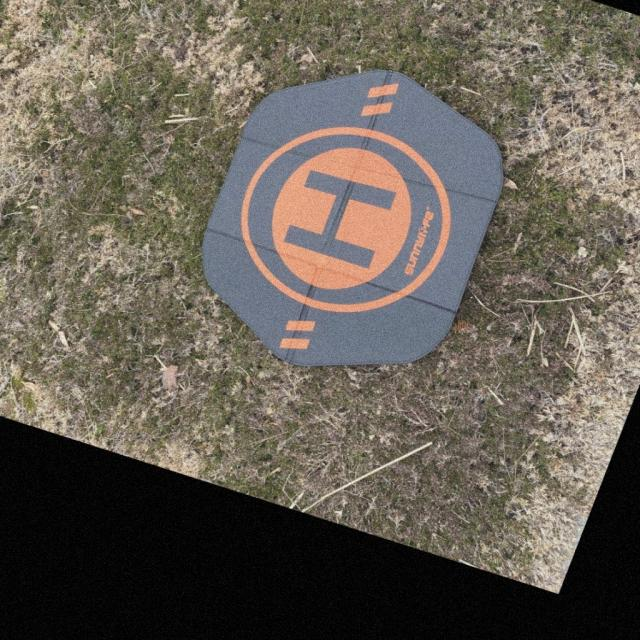helipad: (234, 121, 454, 315)
